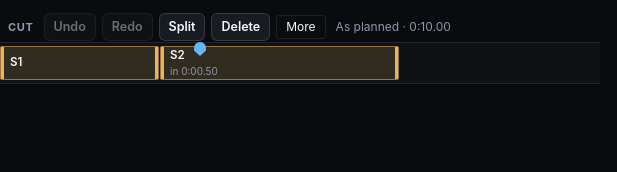
Test: the cut lane › clicking a clip chooses it and takes the playhead to its start
The image size is (617, 172).
Click the button with aria-label "S2 from". click: [280, 63]
box: x1=168 y1=47 x2=391 y2=79
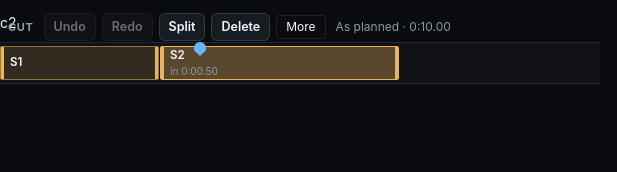
Now the text with test id "sel" reads "c2", box x1=0 y1=14 x2=16 y2=31
